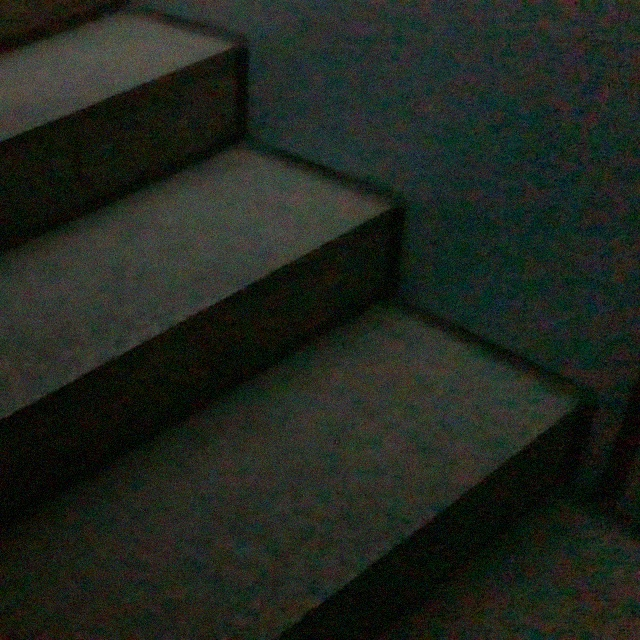stair: (0, 26, 599, 621)
